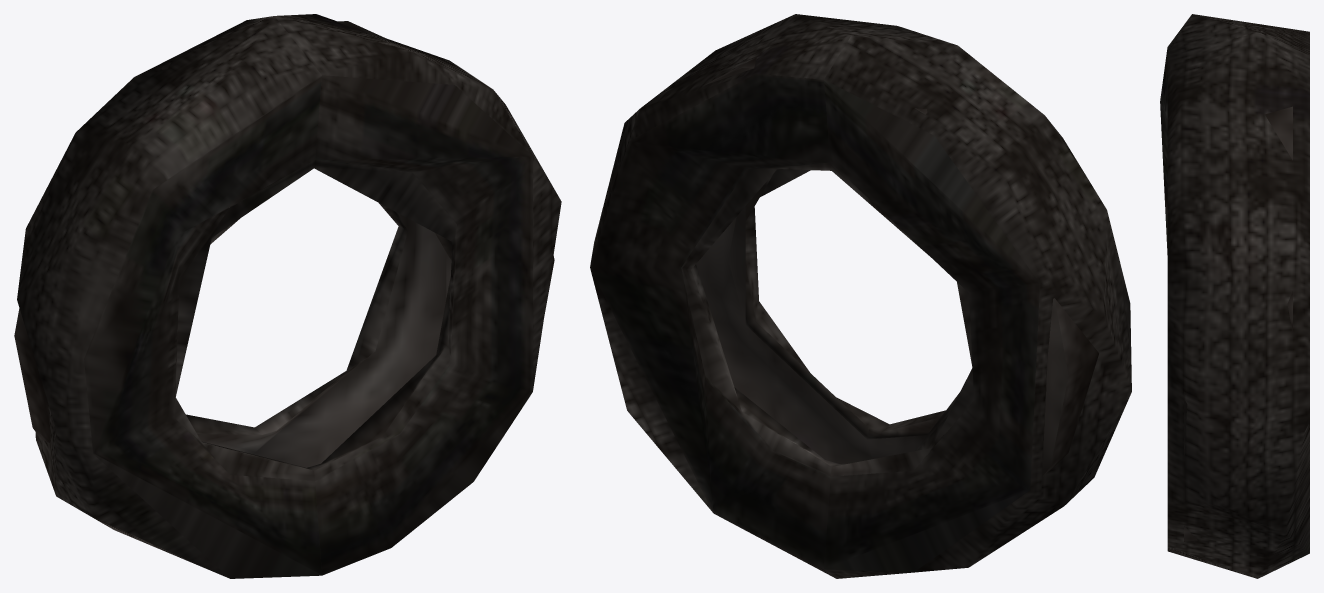
Rendered from old_tyre.glb.
3 views of the same model, side by side, from view 1: azimuth 30°, elevation 25°; view 2: azimuth 150°, elevation 25°; view 3: azimuth 270°, elevation 25° (orthographic). The views are drawn at different scales.
Parts seen in each view (by area): view 1: old_tyre; view 2: old_tyre; view 3: old_tyre.
Boxes of the visible parts, <box> form: old_tyre: <box>14,14,561,578</box>; old_tyre: <box>590,14,1131,578</box>; old_tyre: <box>1160,14,1309,578</box>.
Size of the model in its own units: 0.5942 by 0.5945 by 0.1568.
1 material, 1 textured.
